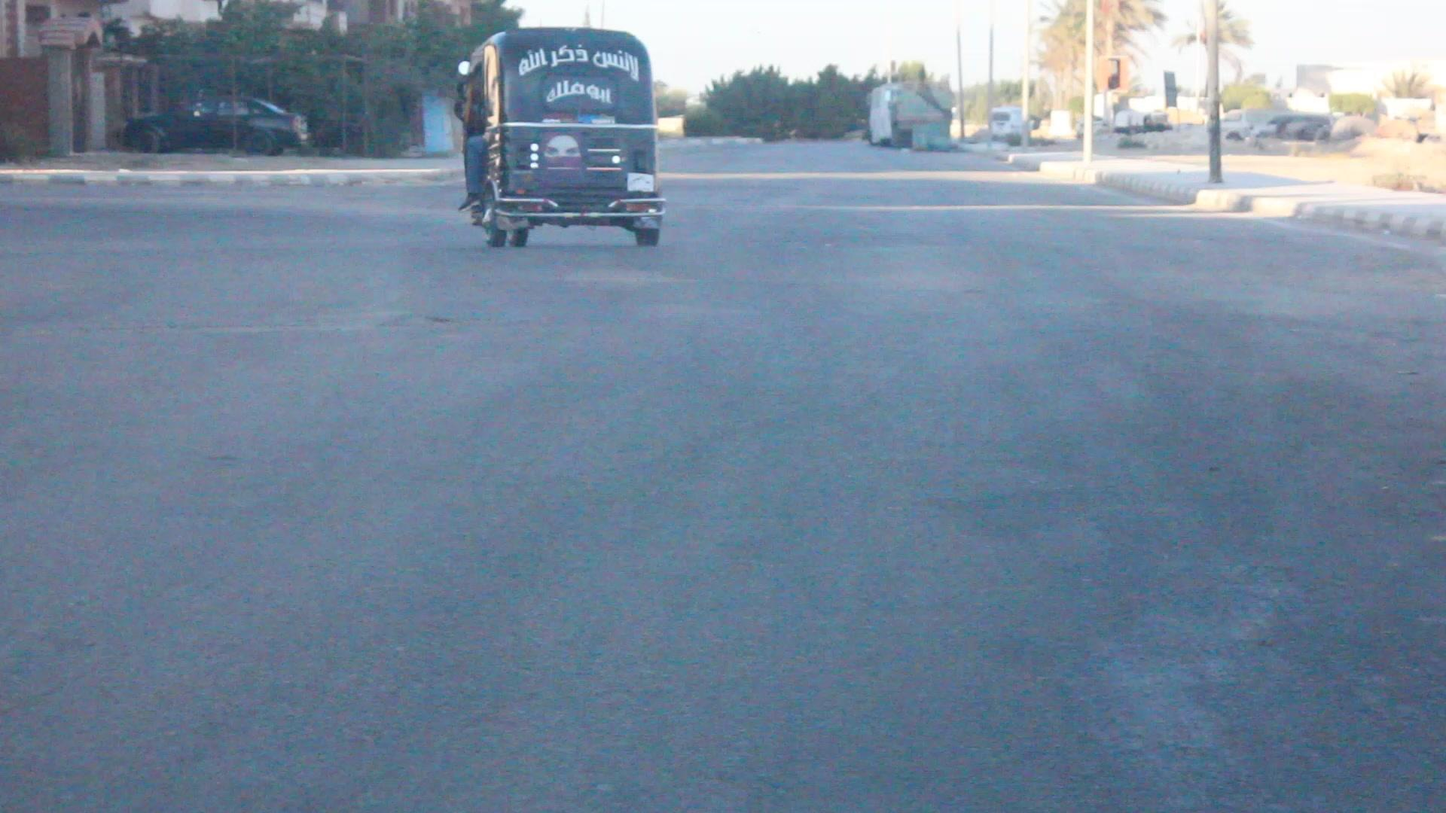Bump: (17, 233, 1440, 288)
